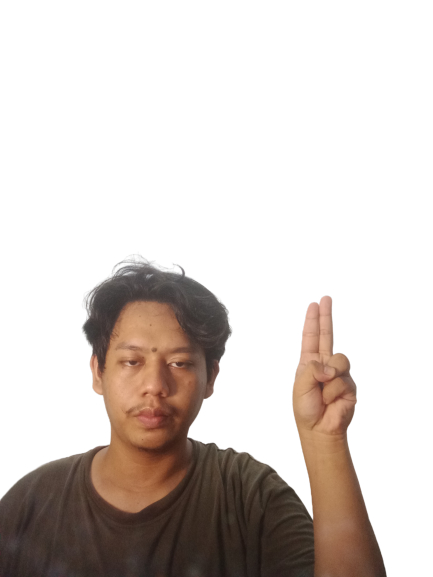U: (288, 290, 360, 441)
